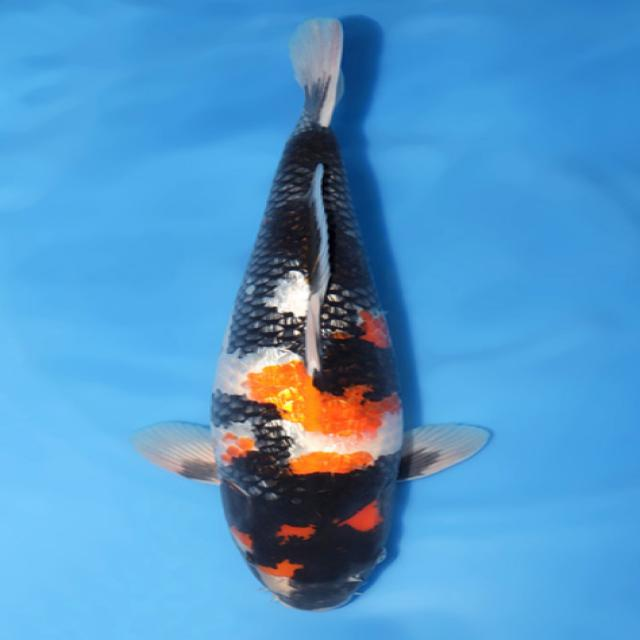Showa: (131, 16, 493, 612)
